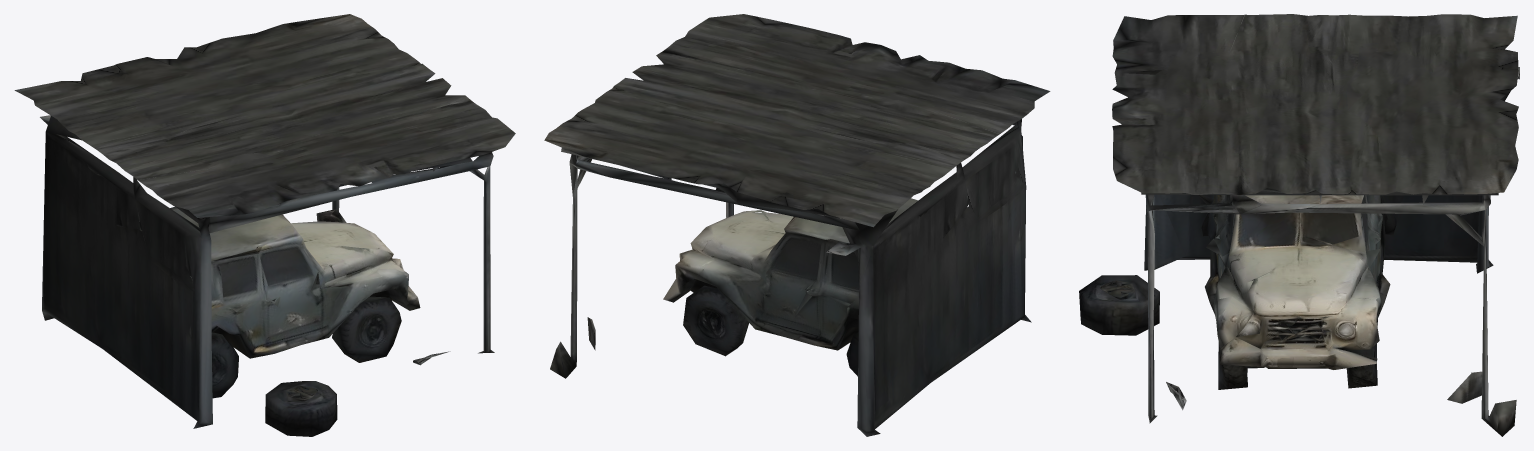
File: b_garage.glb
3 views of the same model, side by side, from view 1: azimuth 30°, elevation 25°; view 2: azimuth 150°, elevation 25°; view 3: azimuth 270°, elevation 25° (orthographic). The views are drawn at different scales.
Visible parts, largest first — view 1: tripo_node_9e9d76d4-0274-4c4d-8992-00a11361ab62; view 2: tripo_node_9e9d76d4-0274-4c4d-8992-00a11361ab62; view 3: tripo_node_9e9d76d4-0274-4c4d-8992-00a11361ab62.
Part boxes in pixels (left/top/right/bottom): tripo_node_9e9d76d4-0274-4c4d-8992-00a11361ab62: left=14, top=14, right=515, bottom=436; tripo_node_9e9d76d4-0274-4c4d-8992-00a11361ab62: left=544, top=14, right=1050, bottom=436; tripo_node_9e9d76d4-0274-4c4d-8992-00a11361ab62: left=1079, top=14, right=1519, bottom=436.
Bounding box in the file's own units: 0.9636 × 0.6366 × 1.
Materials: 1 (1 with a texture image).
